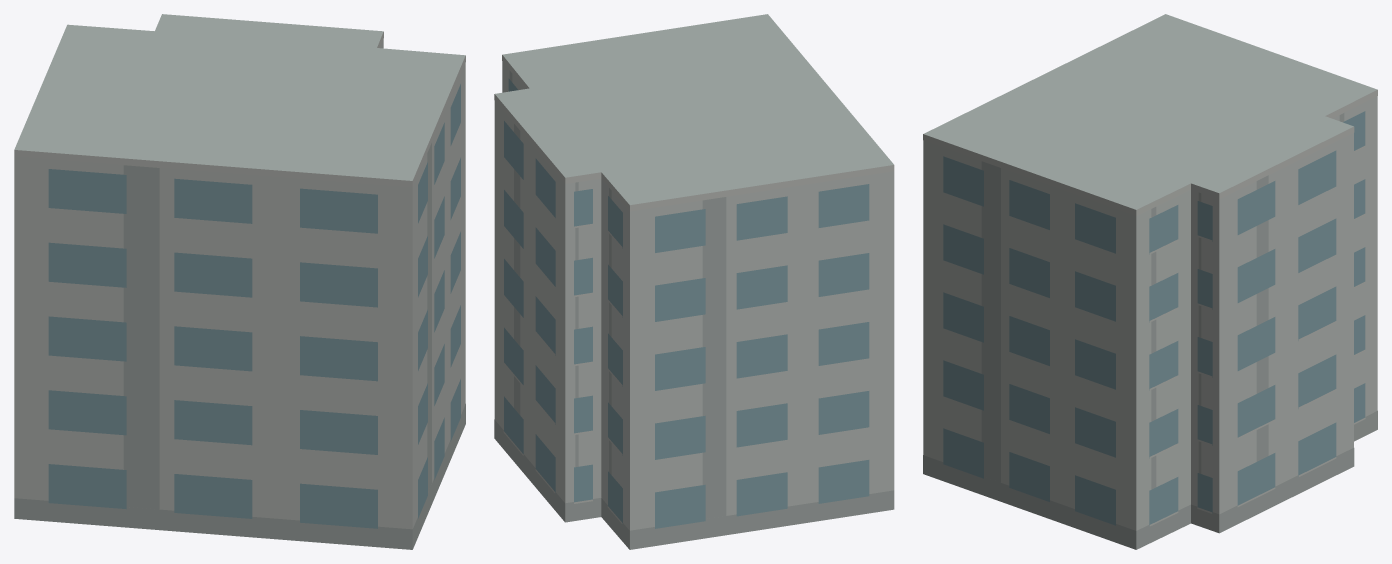
File: survey-upis-32953622.glb
3 renders of one model, left to right at view 1: azimuth 30°, elevation 25°; view 2: azimuth 150°, elevation 25°; view 3: azimuth 270°, elevation 25°, orthographic. The views are drawn at different scales.
Visible parts, largest first — view 1: survey-upis-32953622.tmp; view 2: survey-upis-32953622.tmp; view 3: survey-upis-32953622.tmp.
Boxes of the visible parts, left/top/right/bottom form: survey-upis-32953622.tmp: left=14, top=14, right=465, bottom=549; survey-upis-32953622.tmp: left=494, top=14, right=894, bottom=549; survey-upis-32953622.tmp: left=923, top=14, right=1377, bottom=549.
Bounding box in the file's own units: 16.32 × 13.2 × 16.
